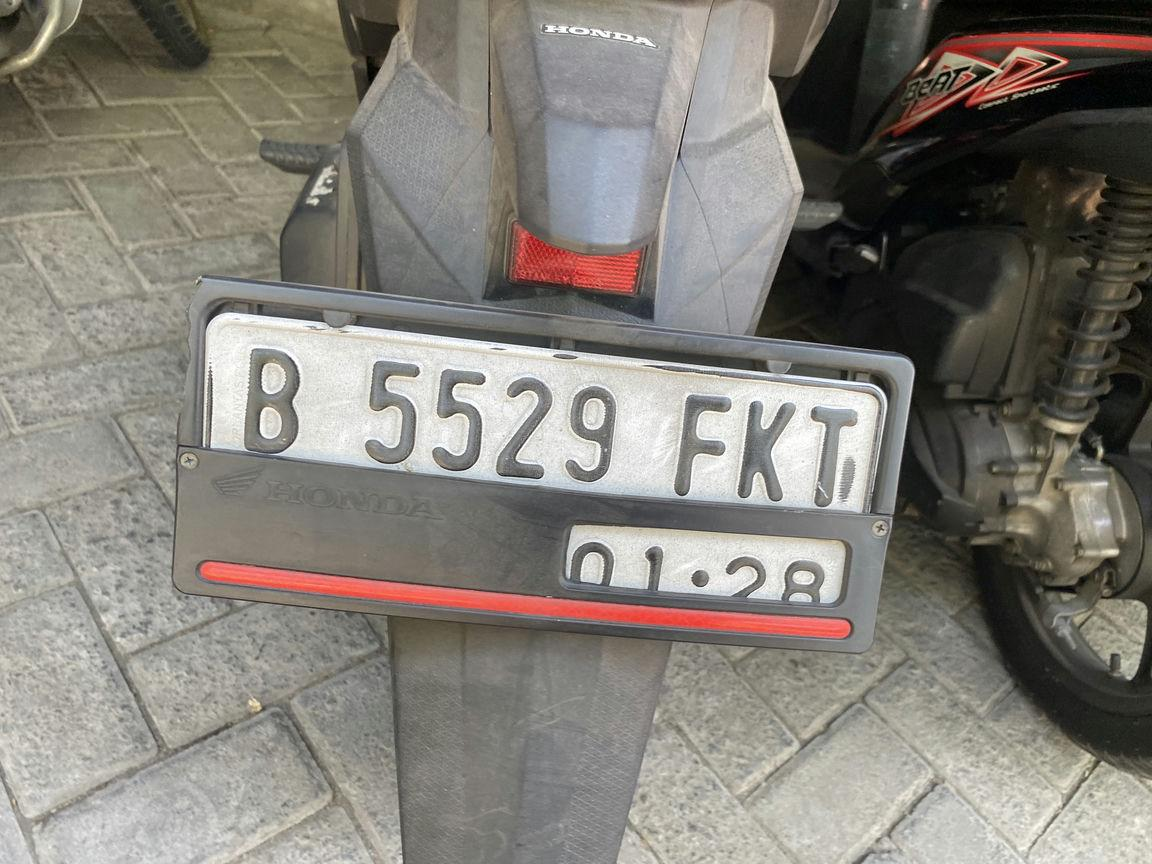plat: (173, 277, 914, 652)
